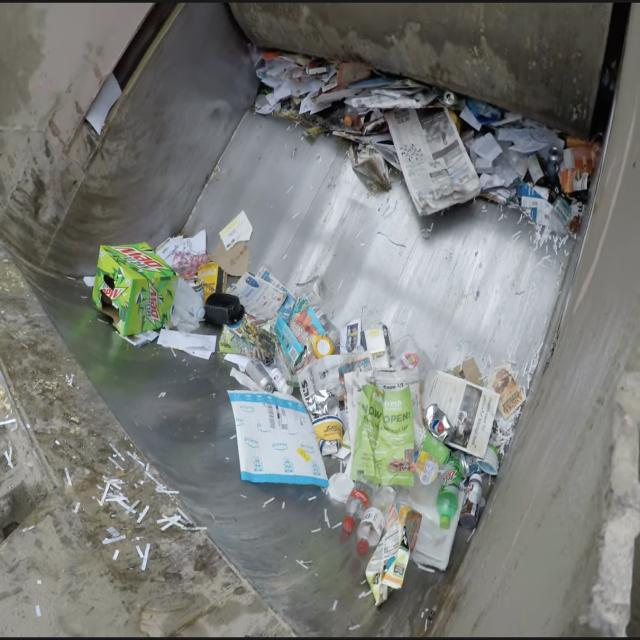cardboard: (85, 204, 198, 360)
paper: (255, 34, 594, 220), (302, 340, 496, 584), (214, 376, 342, 508)
